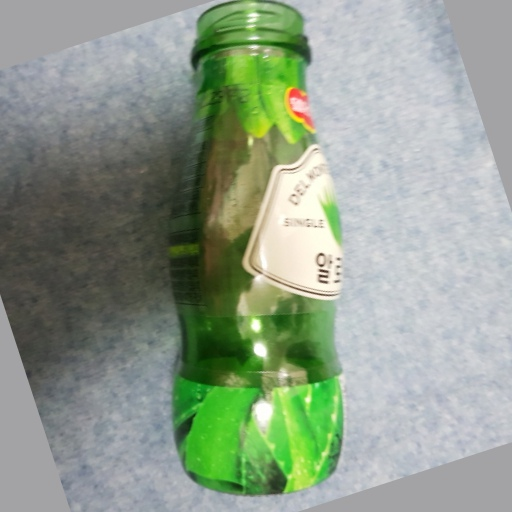Glass_4: (169, 2, 348, 494)
